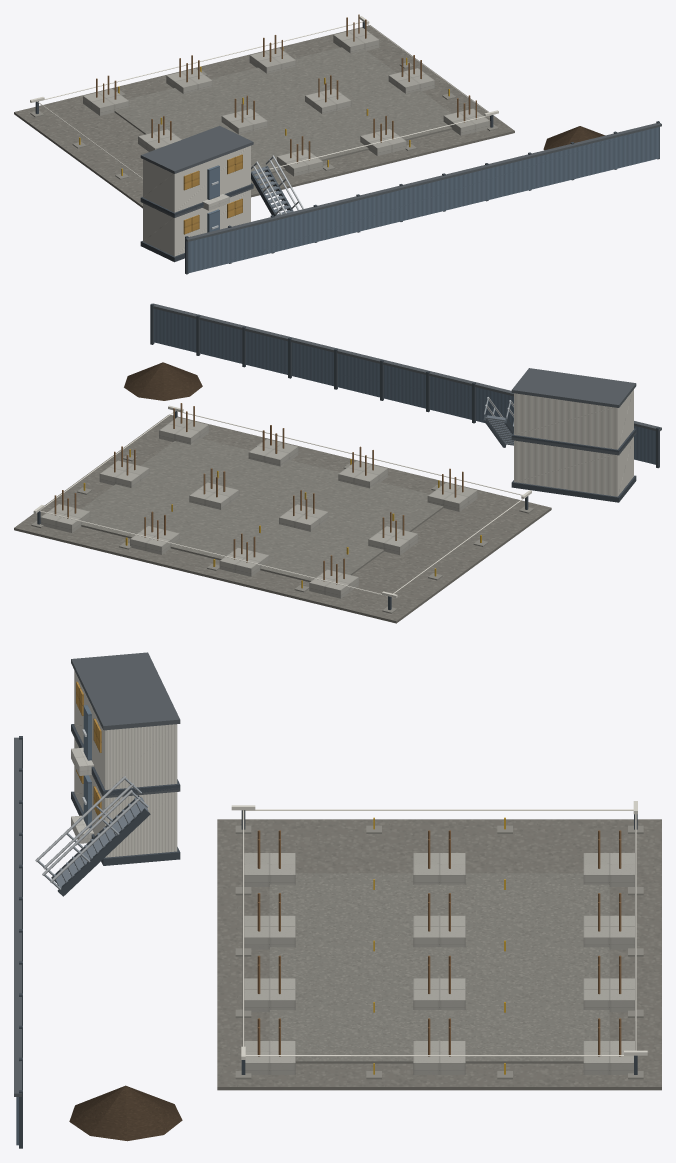
Rendered from el-2-site.glb.
The picture shows the model from 3 angles, top to bottom: view 1: azimuth 30°, elevation 25°; view 2: azimuth 150°, elevation 25°; view 3: azimuth 270°, elevation 25°; orthographic projection. The views are drawn at different scales.
Size of the model in its own units: 32.44 by 6.02 by 24.77.
Materials: 19 (9 with a texture image).
